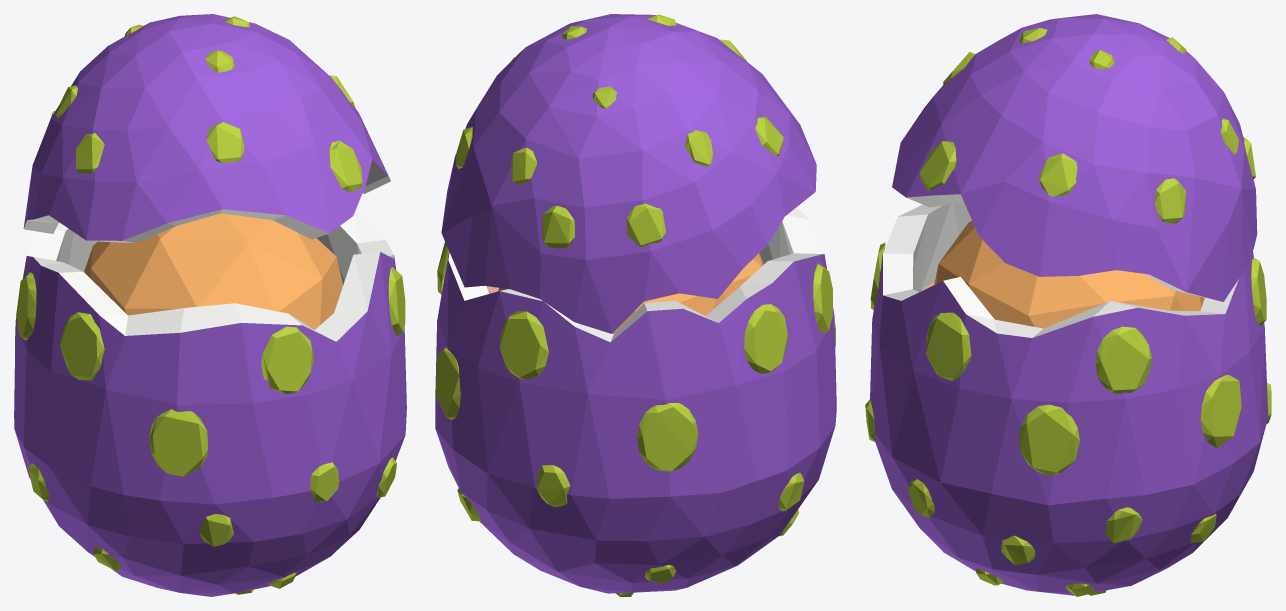
File: Ingredient_egg_1.fbx
The picture shows the model from 3 angles, left to right: view 1: azimuth 30°, elevation 25°; view 2: azimuth 150°, elevation 25°; view 3: azimuth 270°, elevation 25°; orthographic projection. The views are drawn at different scales.
Visible parts, largest first — view 1: Egg.001; view 2: Egg.001; view 3: Egg.001.
Boxes of the visible parts, bbox=[...] form: Egg.001: bbox=[14, 14, 406, 596]; Egg.001: bbox=[435, 14, 836, 596]; Egg.001: bbox=[865, 14, 1271, 596].
Size of the model in its own units: 25.96 by 38.89 by 26.13.
